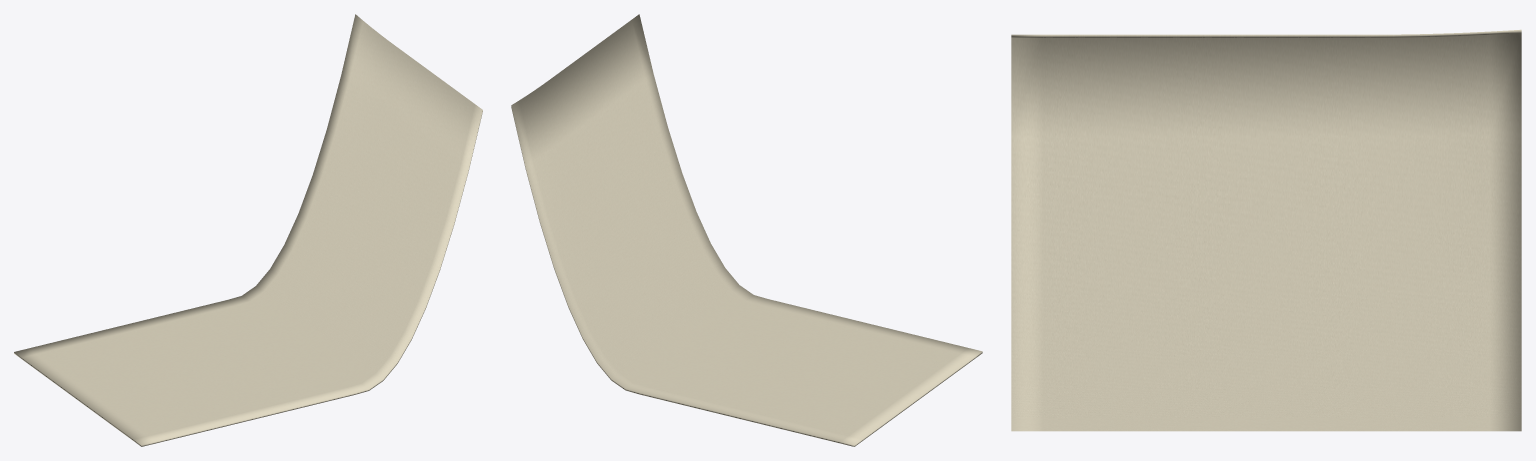
File: material_card.glb
3 renders of one model, left to right at view 1: azimuth 30°, elevation 25°; view 2: azimuth 150°, elevation 25°; view 3: azimuth 270°, elevation 25°, orthographic. The views are drawn at different scales.
Visible parts, largest first — view 1: material_card__PaperSurface; view 2: material_card__PaperSurface; view 3: material_card__PaperSurface.
Part boxes in pixels (x1,y1,x2,y2): material_card__PaperSurface: (14, 14, 482, 446); material_card__PaperSurface: (511, 14, 982, 446); material_card__PaperSurface: (1011, 29, 1521, 431).
Size of the model in its own units: 0.085 by 0.061 by 0.055.
Materials: 2 (2 with a texture image).
